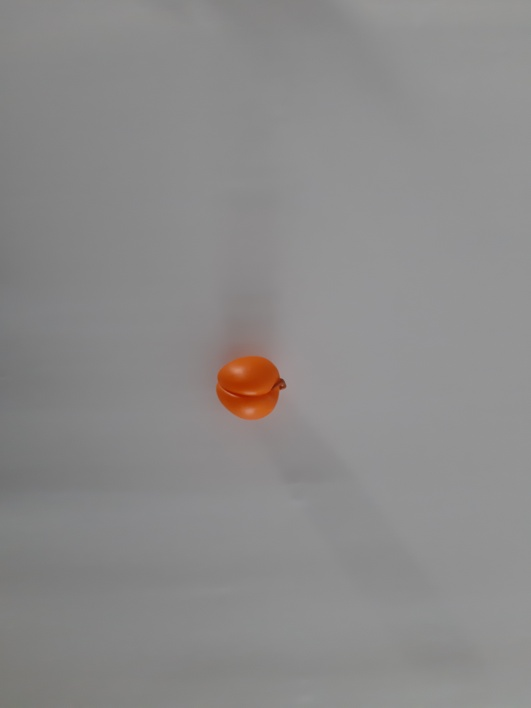apricot: (190, 338, 318, 453)
